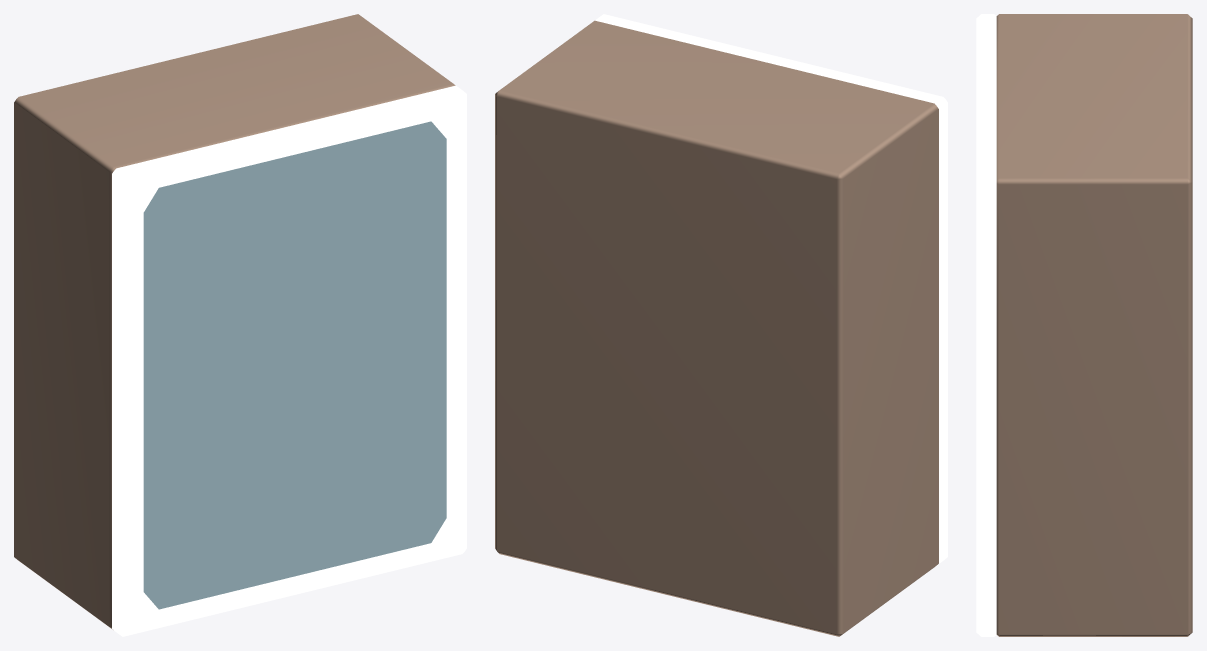
The model's file is Cabinet_2.glb.
The picture shows the model from 3 angles, left to right: view 1: azimuth 30°, elevation 25°; view 2: azimuth 150°, elevation 25°; view 3: azimuth 270°, elevation 25°; orthographic projection.
Visible parts, largest first — view 1: Cabinet_2; view 2: Cabinet_2; view 3: Cabinet_2.
Boxes of the visible parts, x1,y1,x2,y2 form: Cabinet_2: (14, 14, 466, 636); Cabinet_2: (495, 14, 947, 636); Cabinet_2: (976, 14, 1192, 636).
Bounding box in the file's own units: 0.9085 × 1.16 × 0.4934.
Materials: 2 (1 with a texture image).
